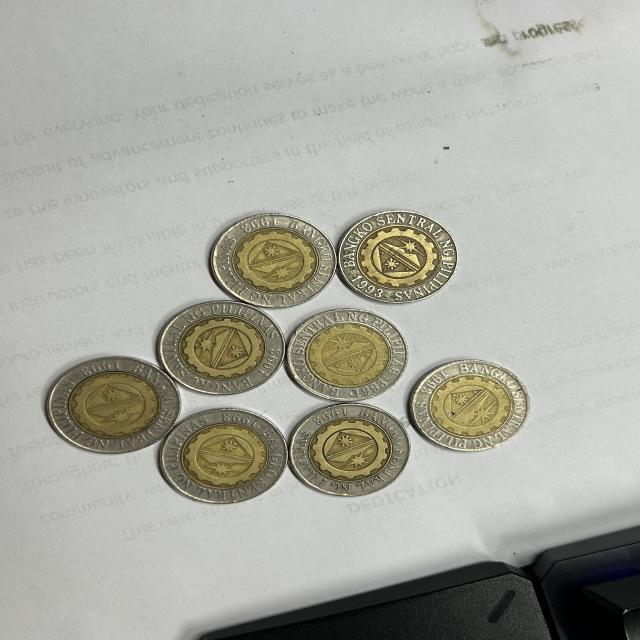10_Old_Back: (45, 356, 179, 456), (283, 403, 408, 502), (411, 353, 541, 446), (332, 211, 458, 304), (166, 408, 286, 500), (160, 303, 280, 391), (205, 220, 318, 305), (283, 311, 405, 386)
